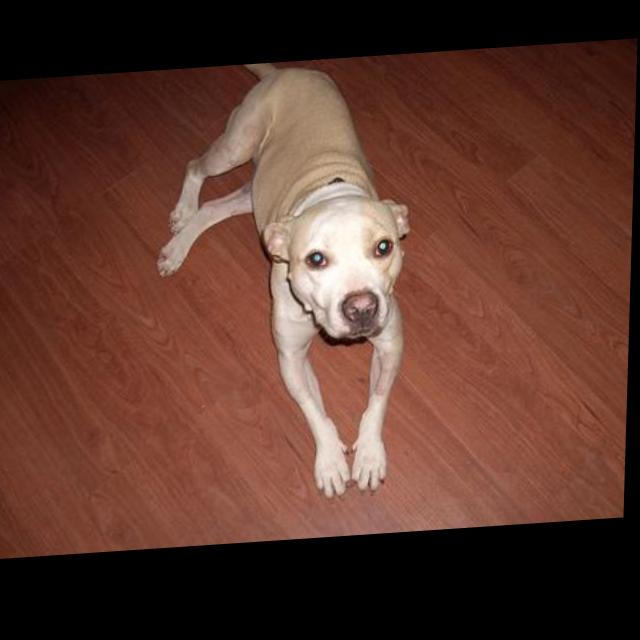amstaff: (151, 60, 417, 514)
